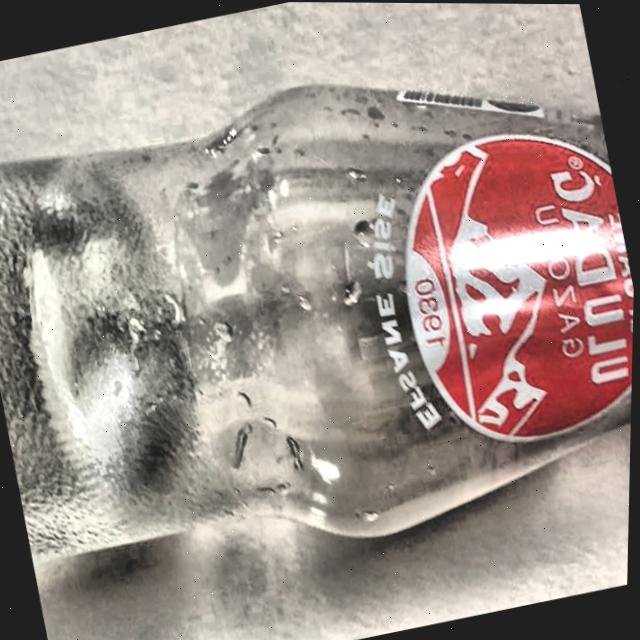plastic: (0, 74, 635, 565)
